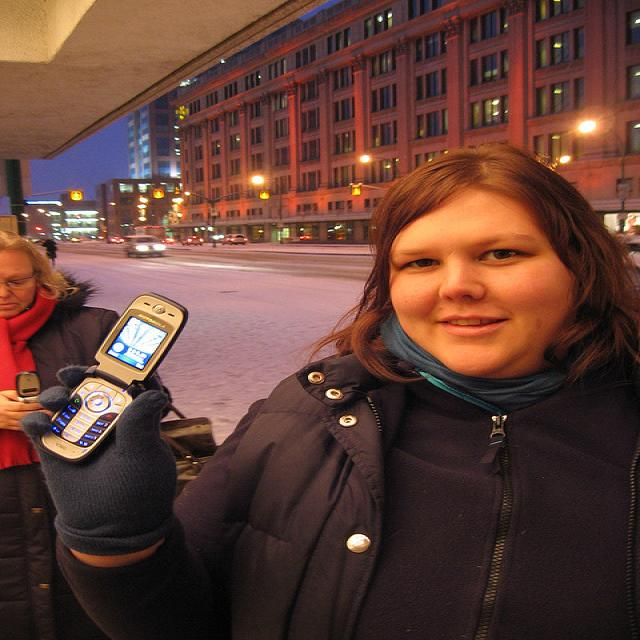Vehicle: (121, 234, 167, 257), (221, 234, 248, 246), (181, 236, 205, 246), (106, 237, 123, 243), (70, 237, 80, 242)
